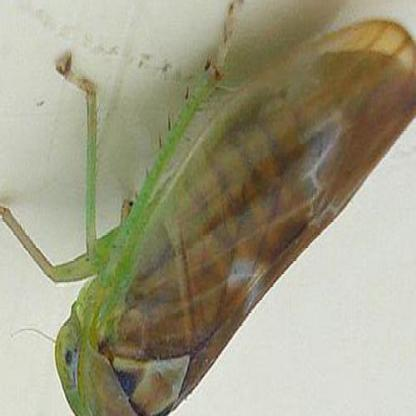green-leafhopper: (40, 15, 413, 416)
